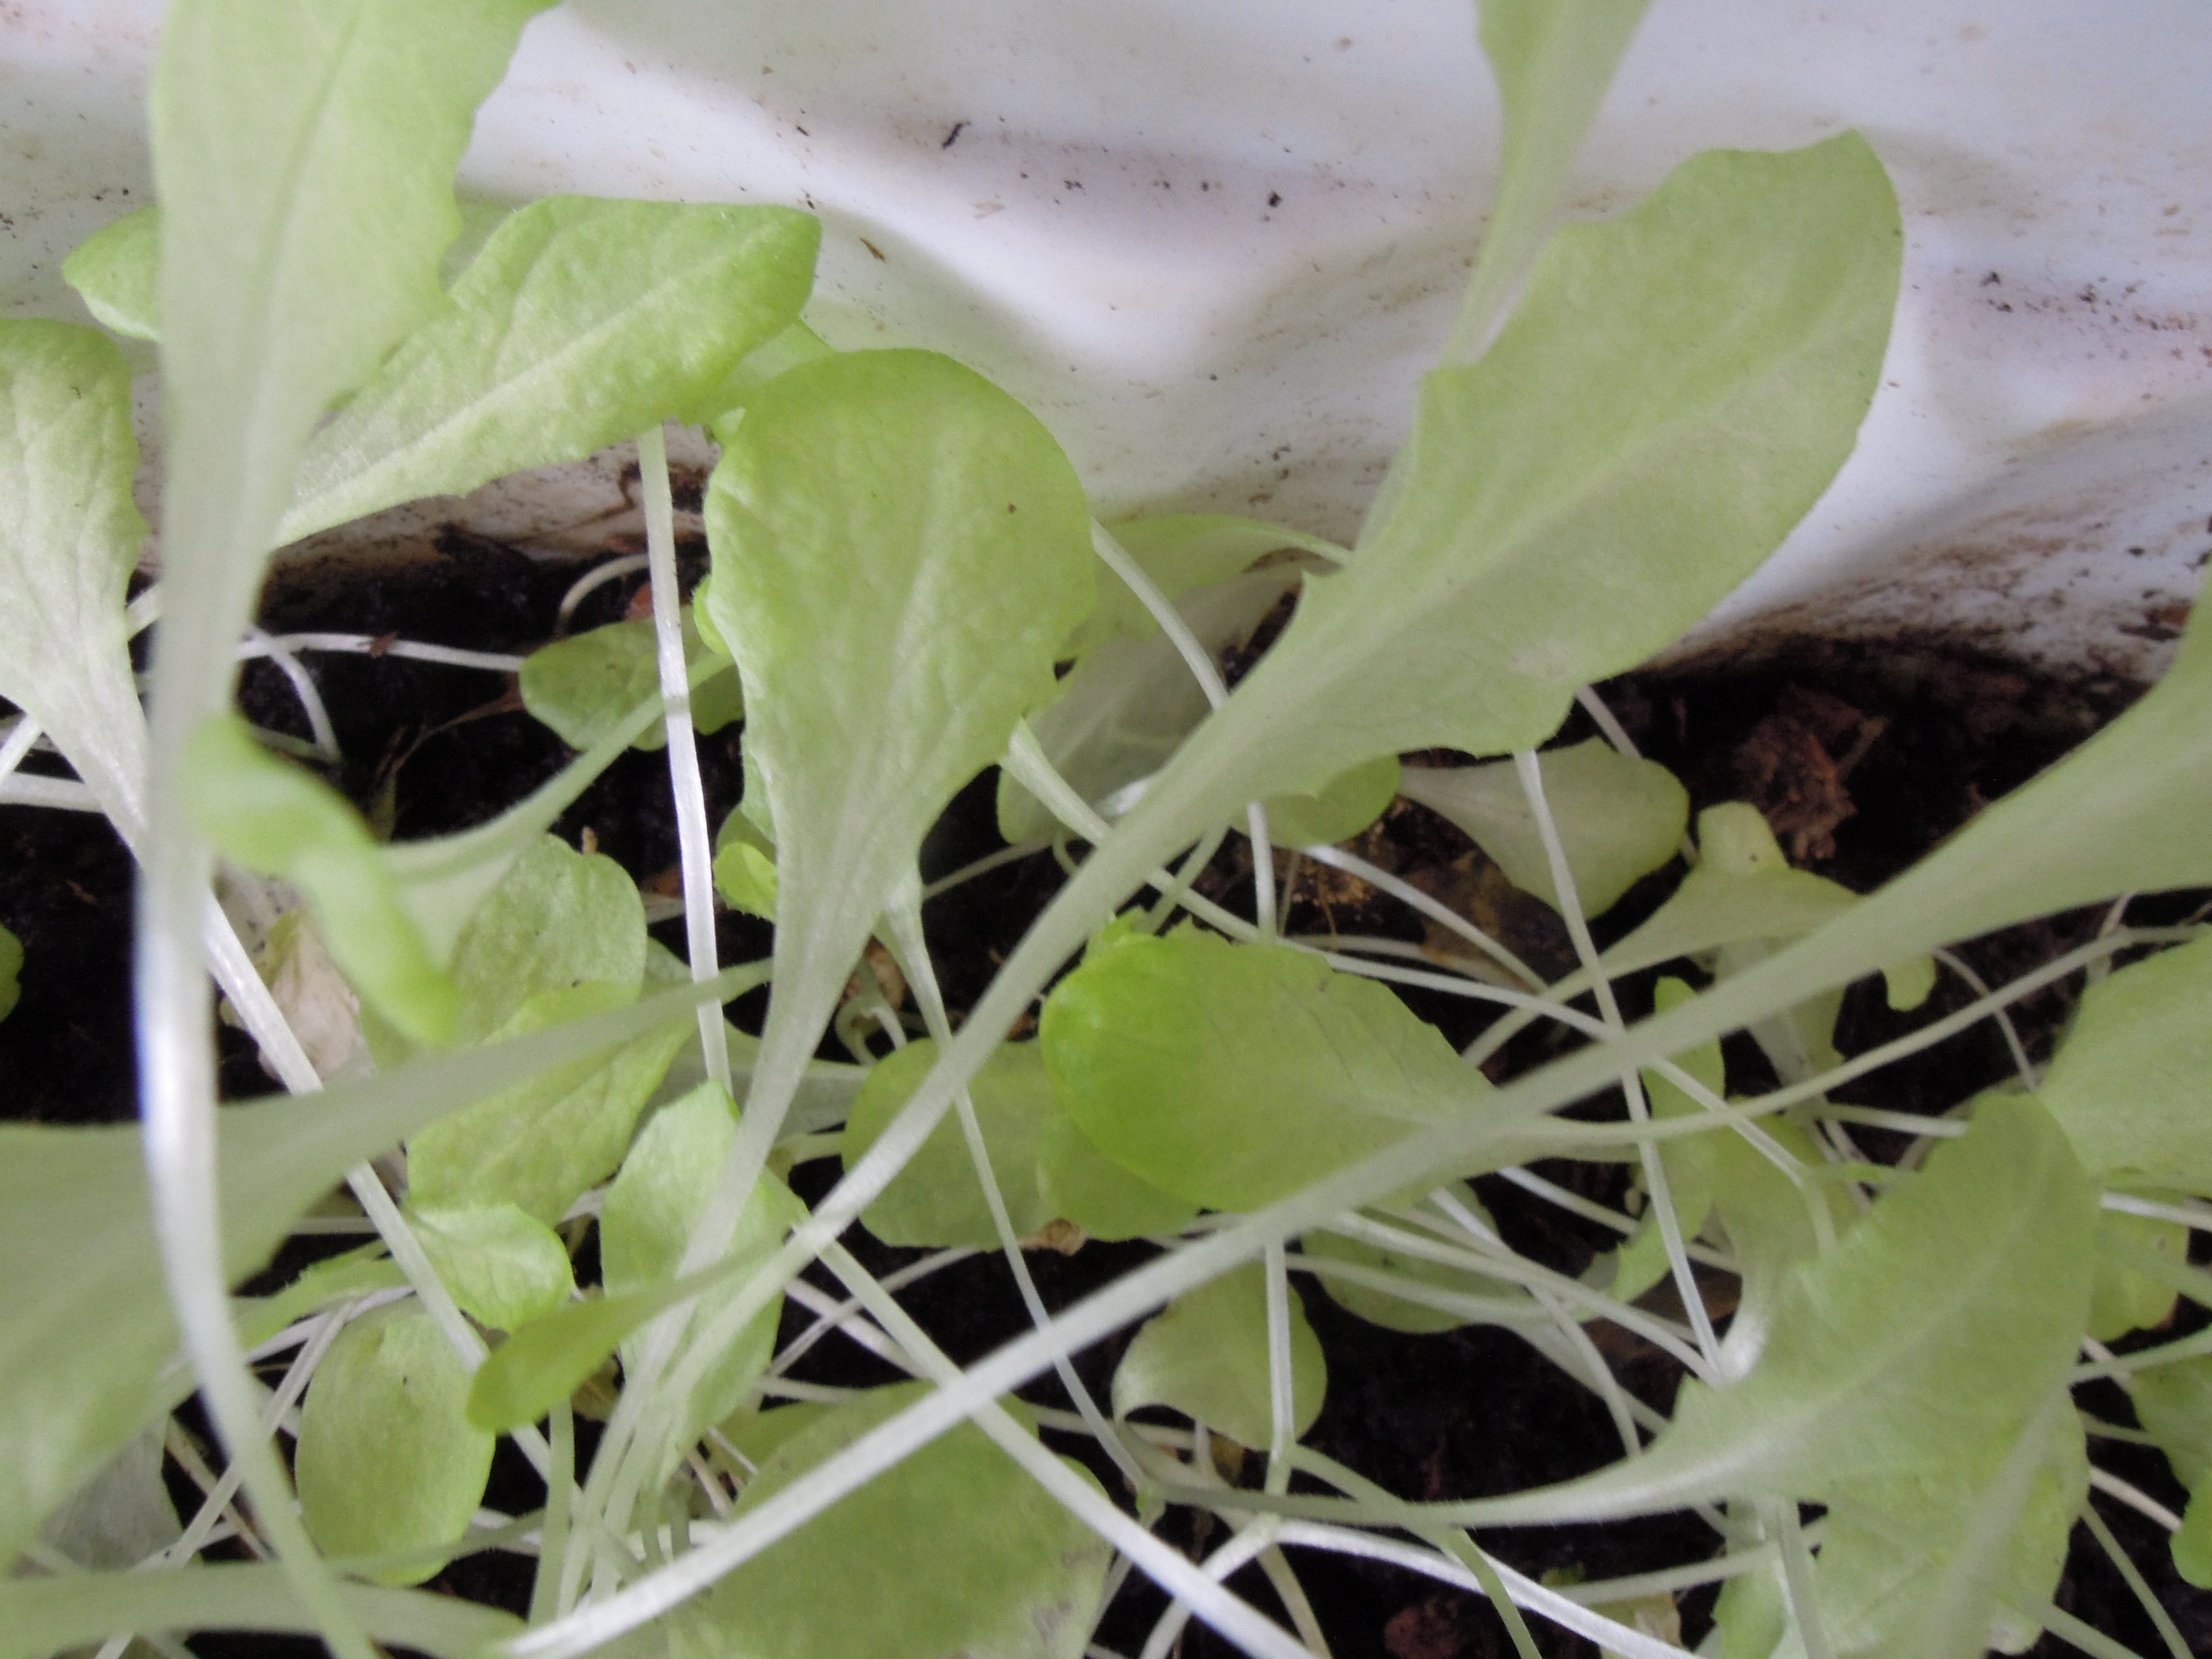weeek6: (89, 40, 2212, 1647)
